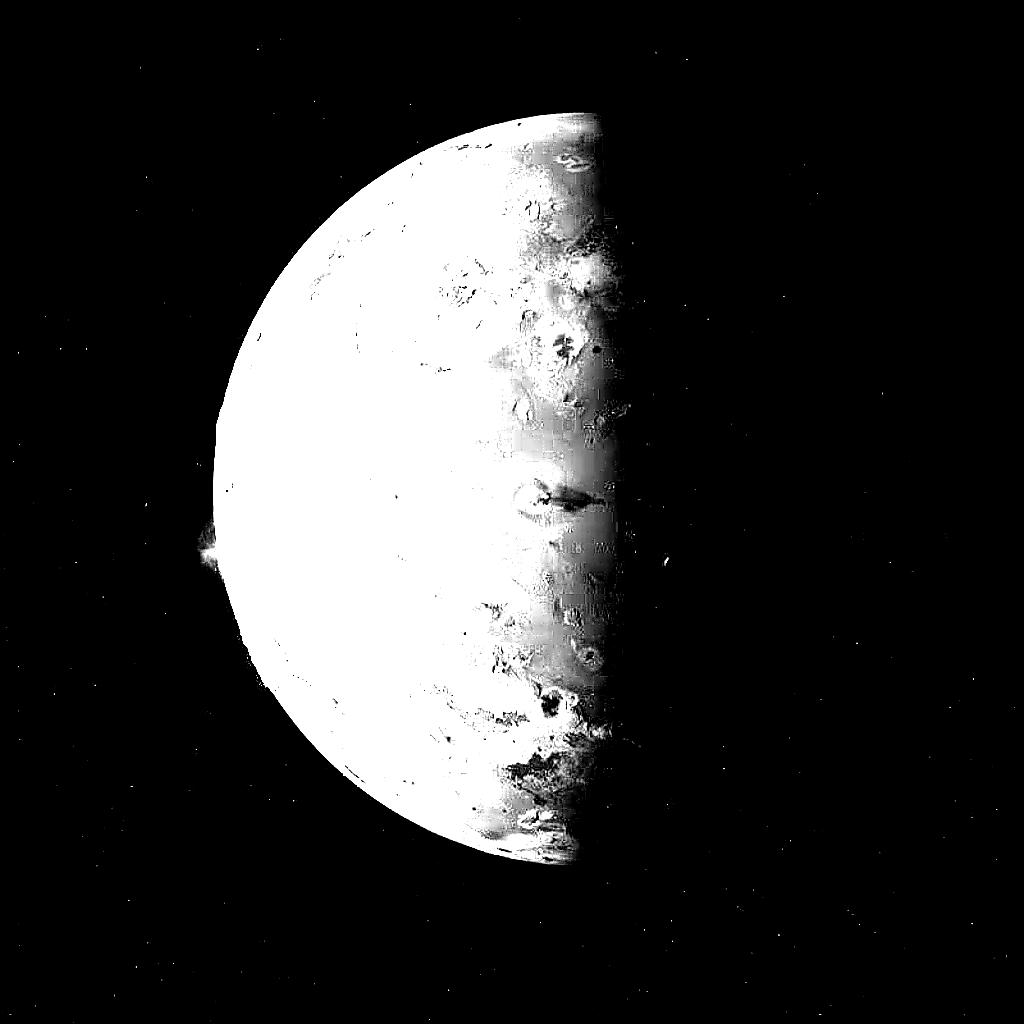plumes: (196, 529, 222, 573)
